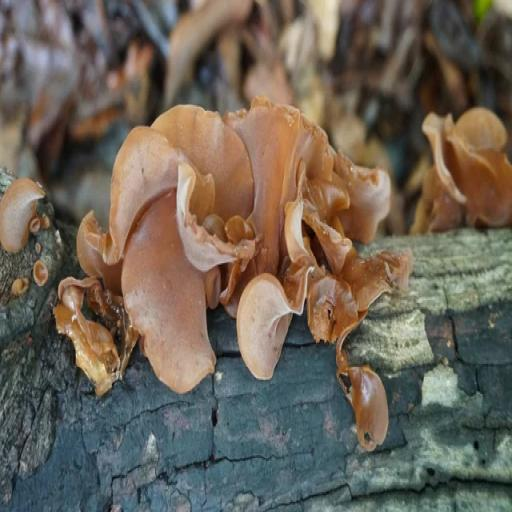Wood Ear Mushroom: (106, 105, 405, 373), (413, 99, 512, 233), (52, 215, 123, 391), (338, 357, 397, 468), (0, 180, 49, 258)
